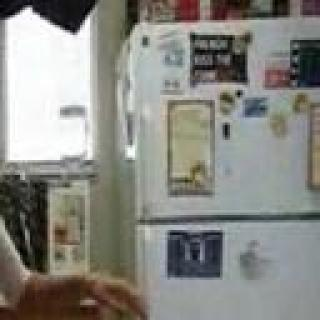fire: (0, 193, 4, 320)
